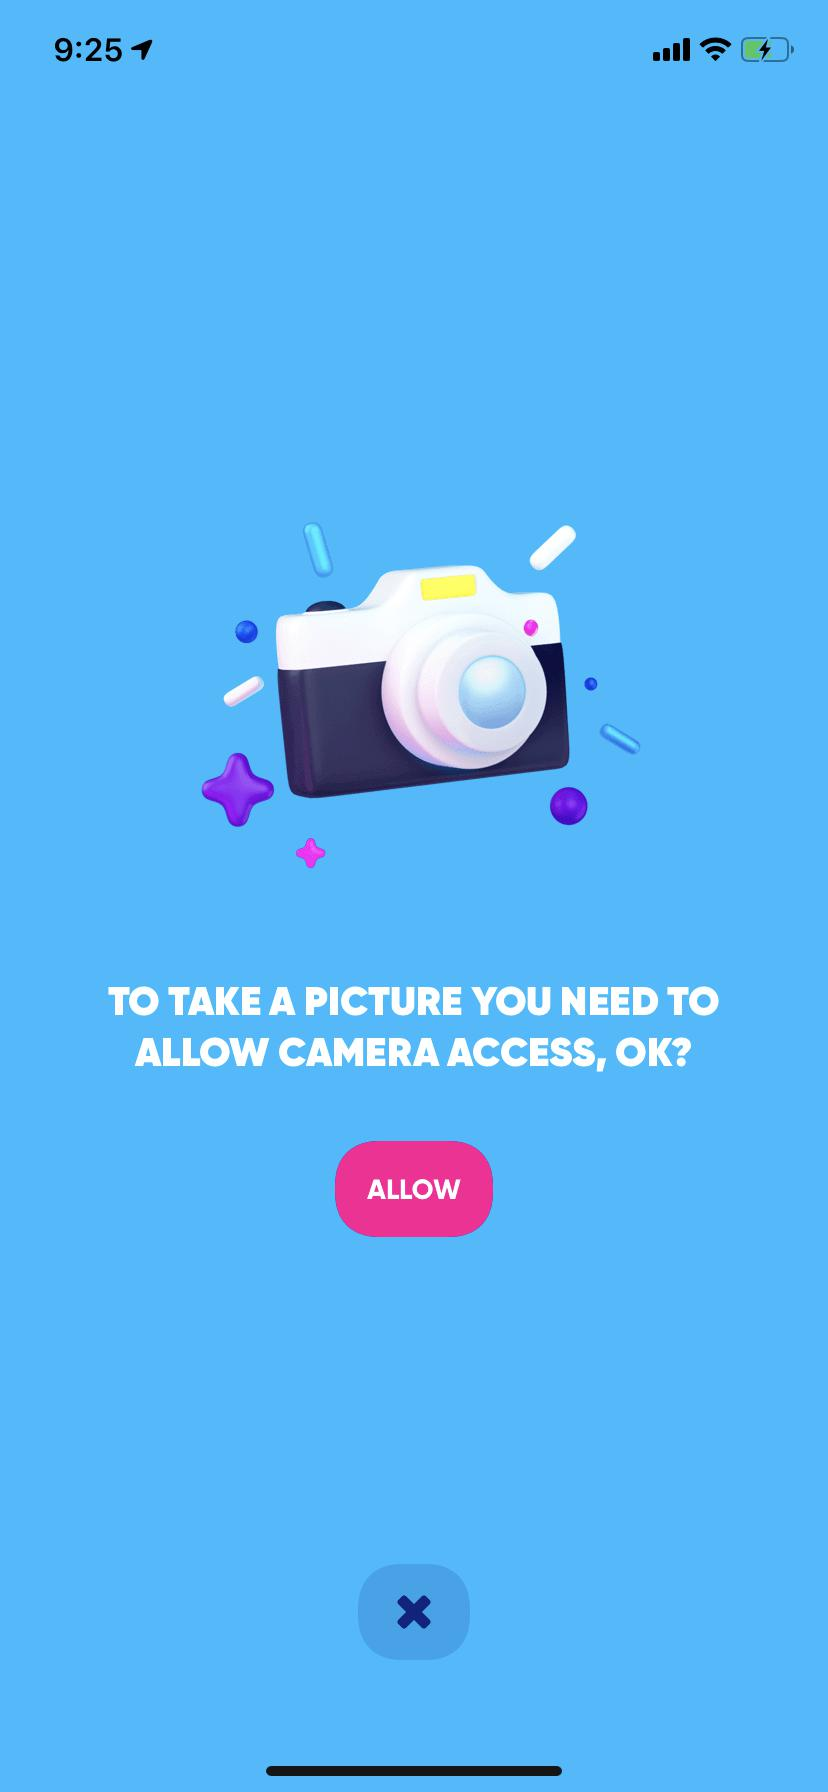Buttons: (328, 1131, 501, 1242), (353, 1557, 481, 1666)
